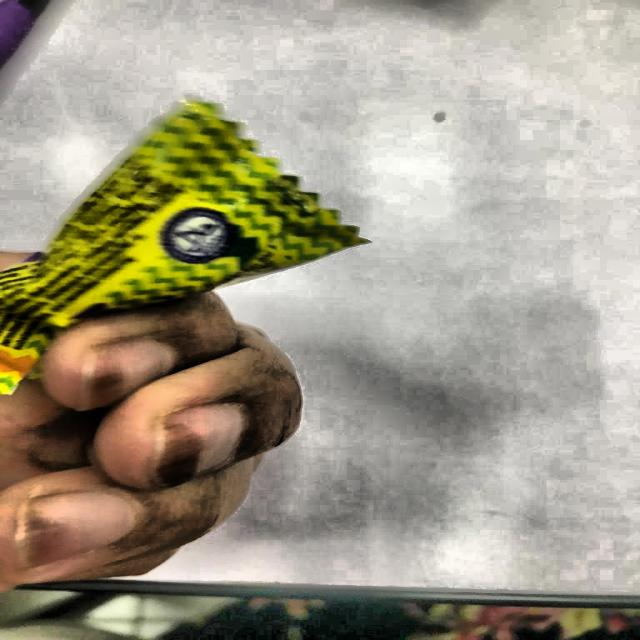Plastic: (9, 99, 328, 368)
